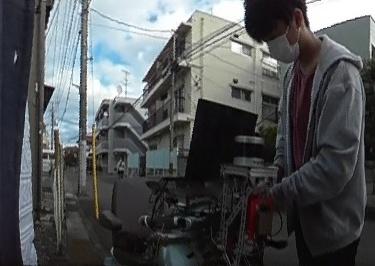person: (237, 0, 375, 266)
